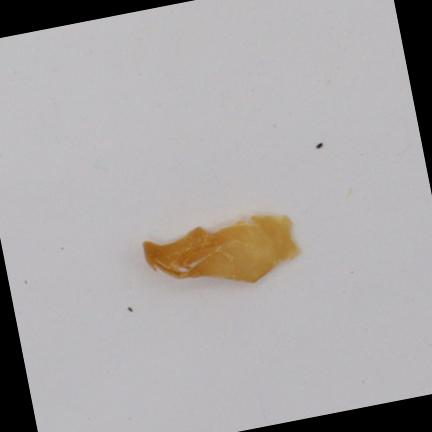parchment: (144, 216, 298, 282)
